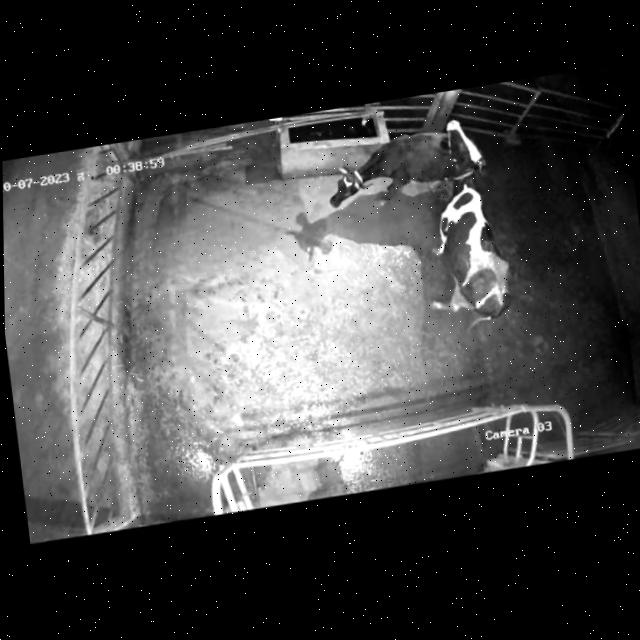propping: (432, 105, 498, 210)
stand: (308, 116, 490, 218)
